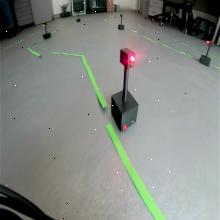red: (119, 47, 137, 71)
